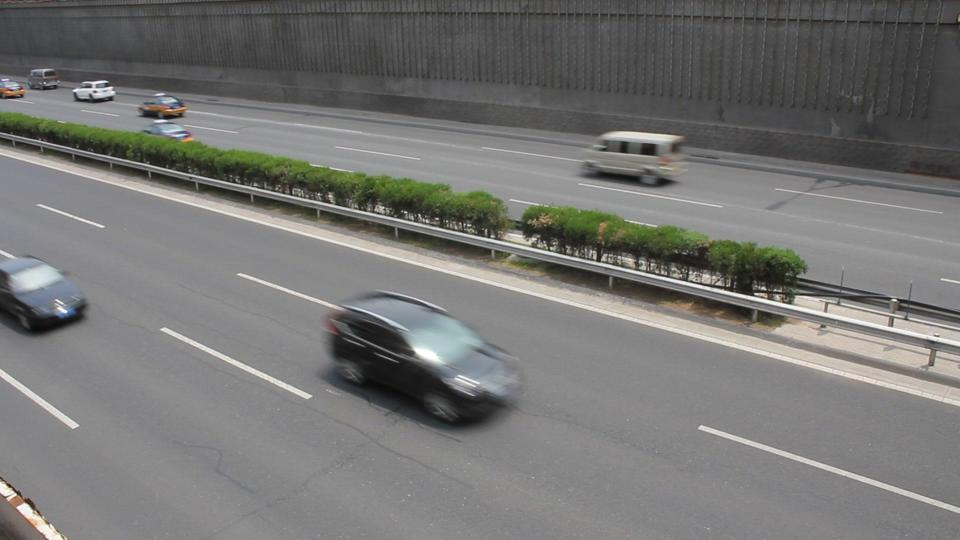Car: (325, 291, 524, 424), (1, 255, 85, 332), (133, 120, 194, 151), (138, 93, 186, 121), (74, 81, 116, 101)
Minivan: (579, 130, 687, 187)
